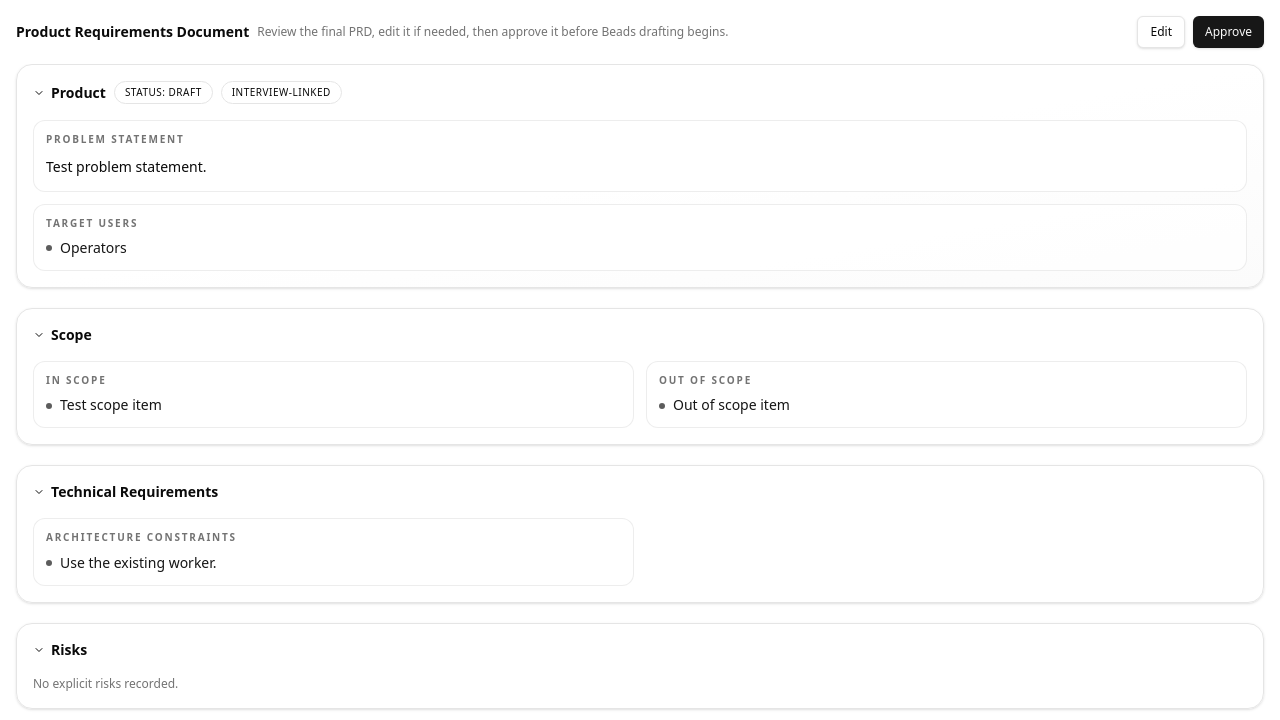
Test case: PrdApprovalPane › lets approval summary sections collapse and re-open
This screenshot has width=1280, height=720.
Expected: the text "Test problem statement." is shown, x1=46 y1=157 x2=206 y2=176
Click the button "Product Status: draft Interview-linked" at (78, 92), box x1=17 y1=65 x2=1263 y2=120
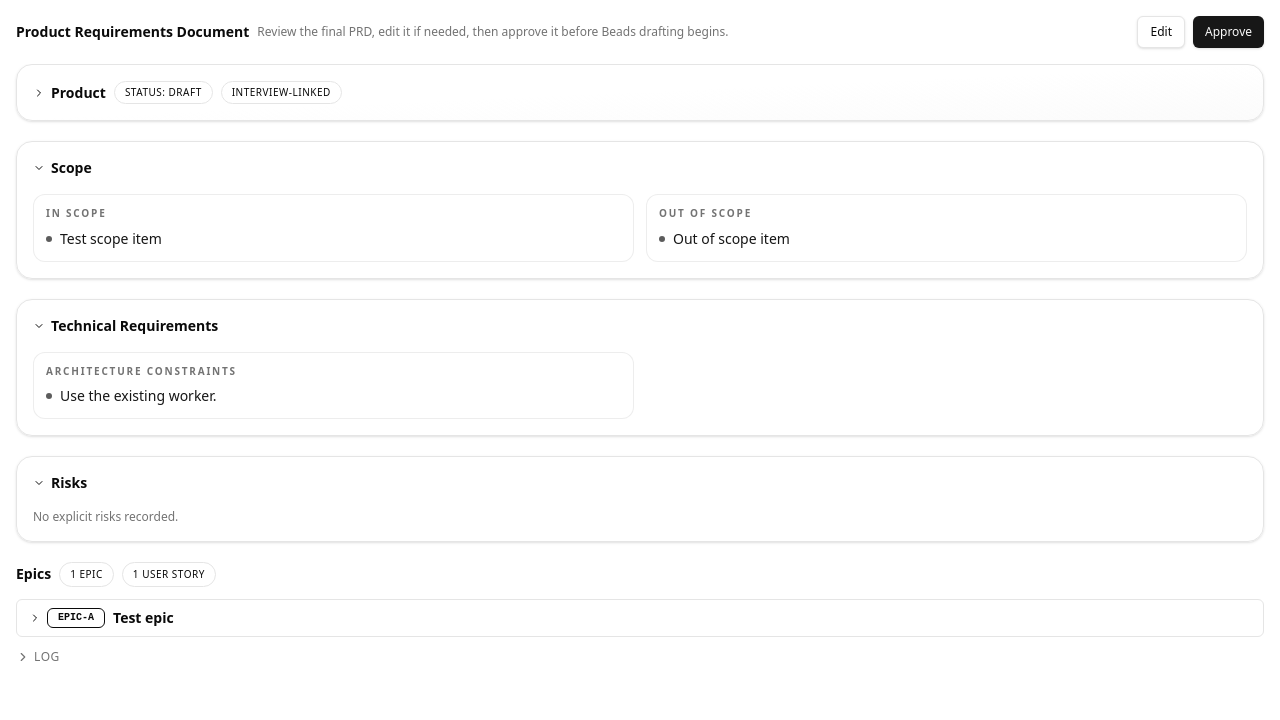
Now the text "Test problem statement." is gone
Click the button "Product Status: draft Interview-linked" at (78, 92), box x1=17 y1=65 x2=1263 y2=120
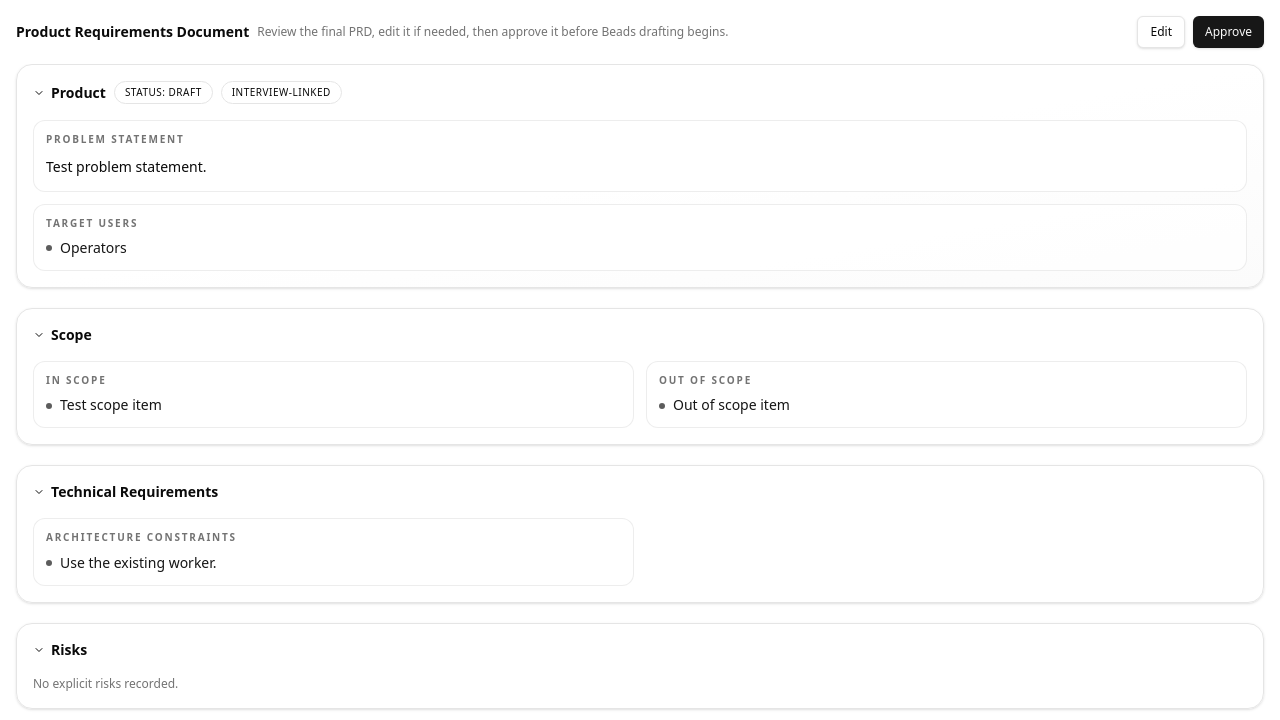
Now the text "Test problem statement." is shown, box x1=46 y1=157 x2=206 y2=176
